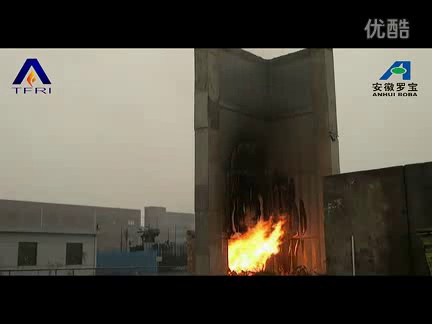fire: (227, 201, 290, 273)
